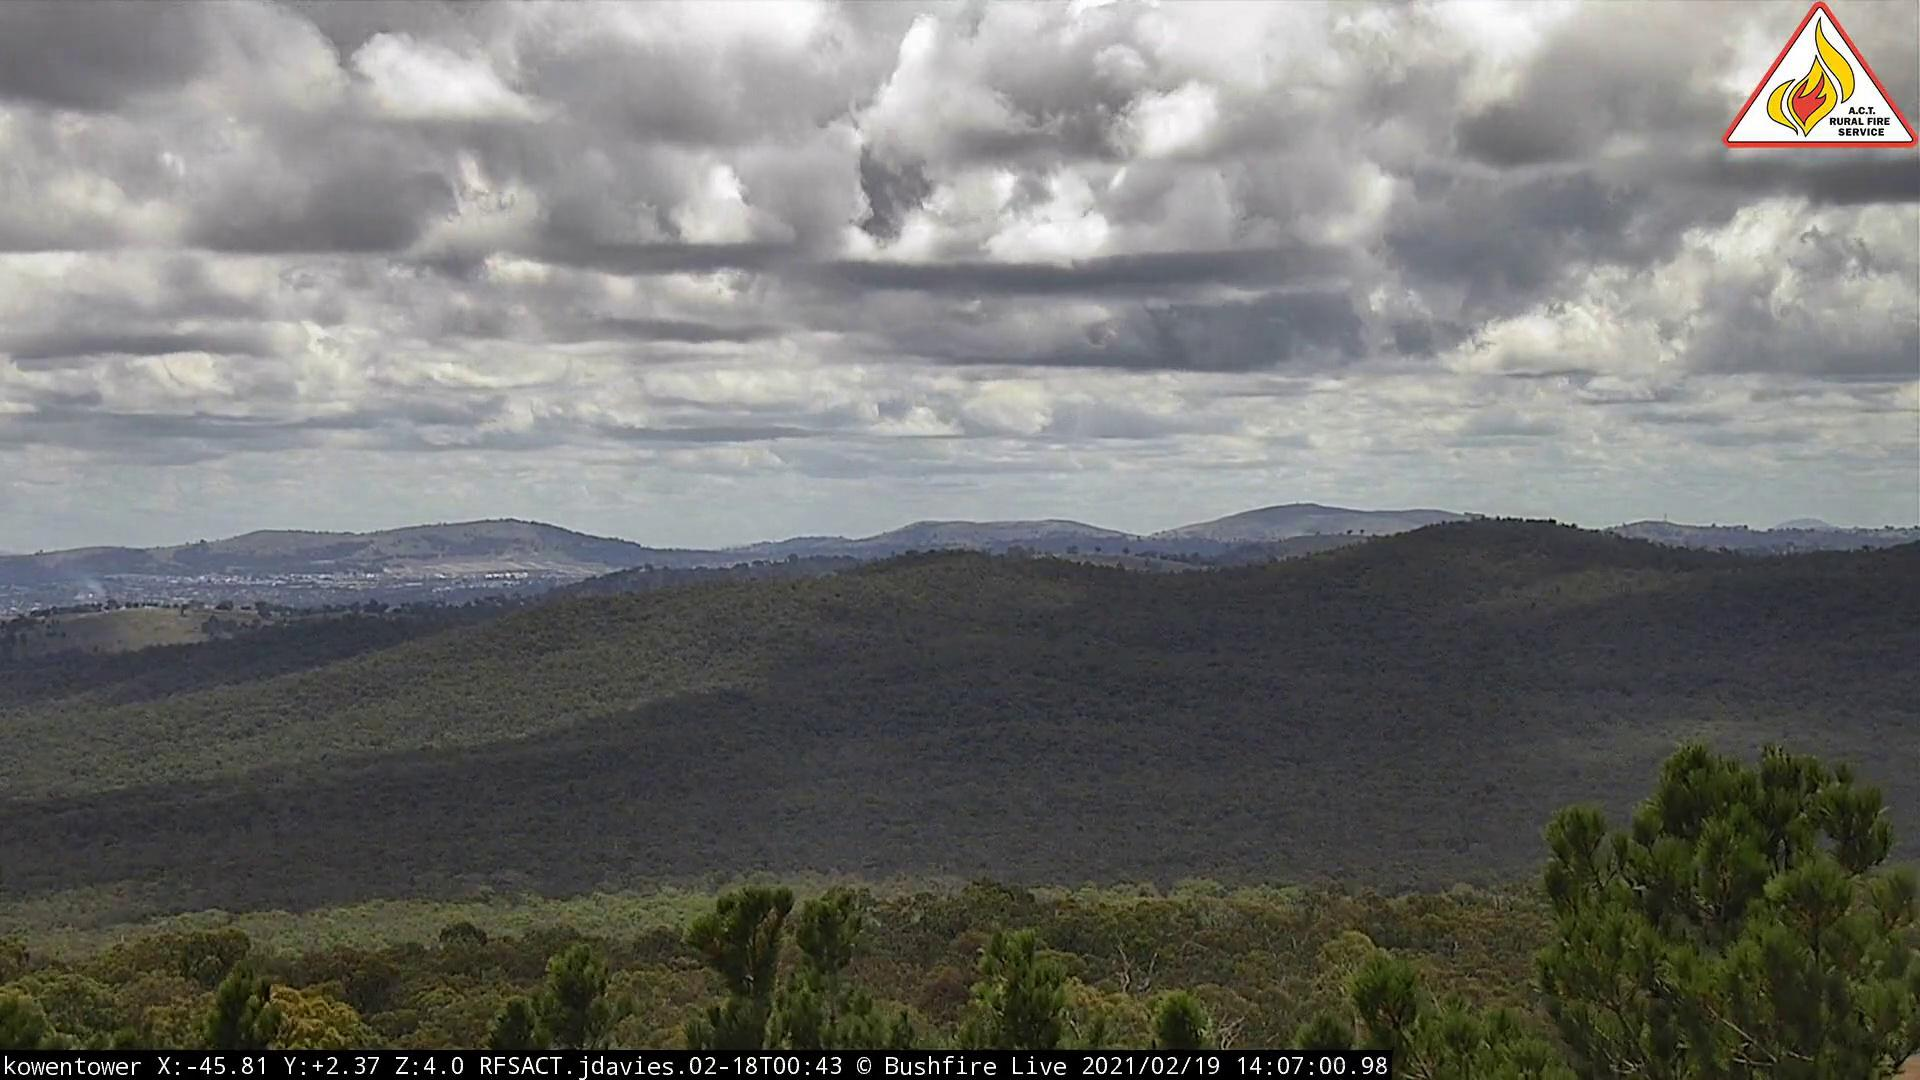instance_salient_object: (95, 576, 116, 622)
